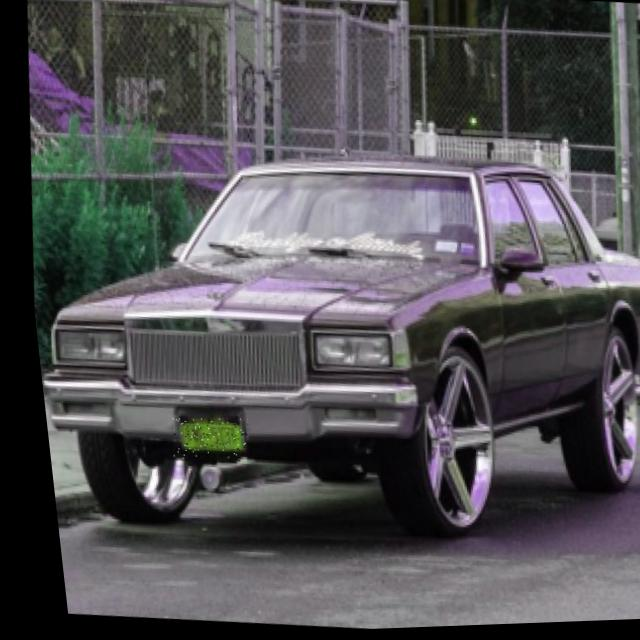license_plate: (159, 414, 241, 465)
